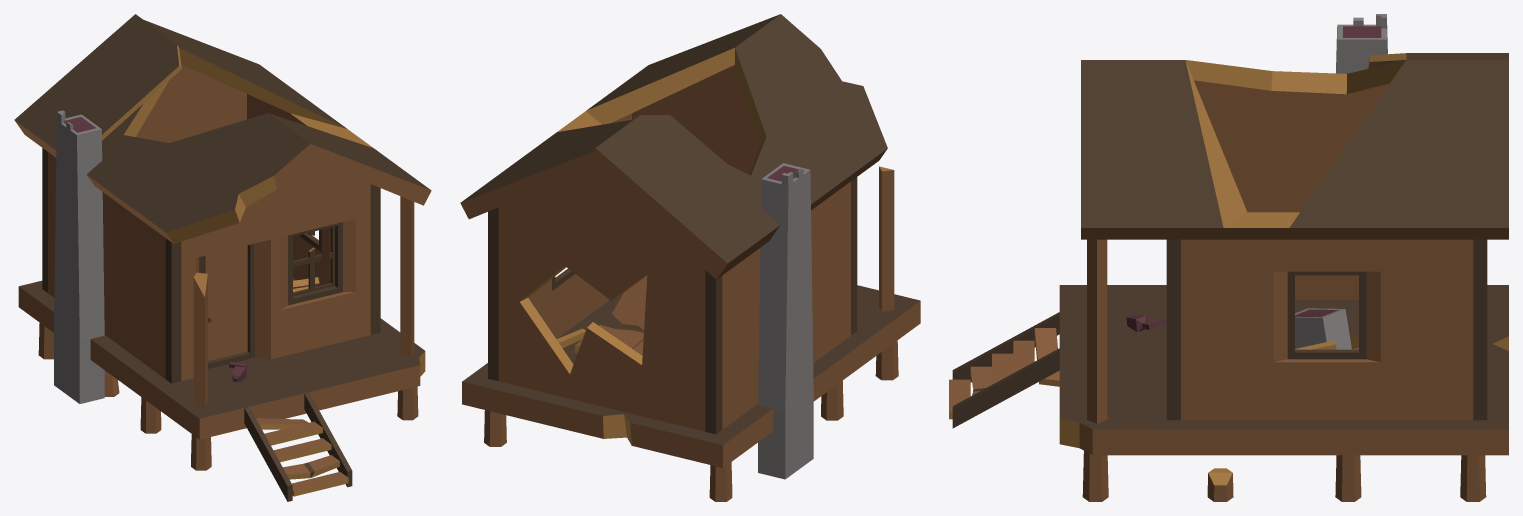
File: building-cabin-small-apocalypse.fbx
3 renders of one model, left to right at view 1: azimuth 30°, elevation 25°; view 2: azimuth 150°, elevation 25°; view 3: azimuth 270°, elevation 25°, orthographic. The views are drawn at different scales.
Visible parts, largest first — view 1: building-cabin-small-apocalypse; view 2: building-cabin-small-apocalypse; view 3: building-cabin-small-apocalypse.
Part boxes in pixels (box(x1,y1,x2,y2)): building-cabin-small-apocalypse: box(14, 14, 431, 501); building-cabin-small-apocalypse: box(460, 14, 920, 501); building-cabin-small-apocalypse: box(949, 14, 1508, 501).
Size of the model in its own units: 4.29 by 5 by 6.67.
